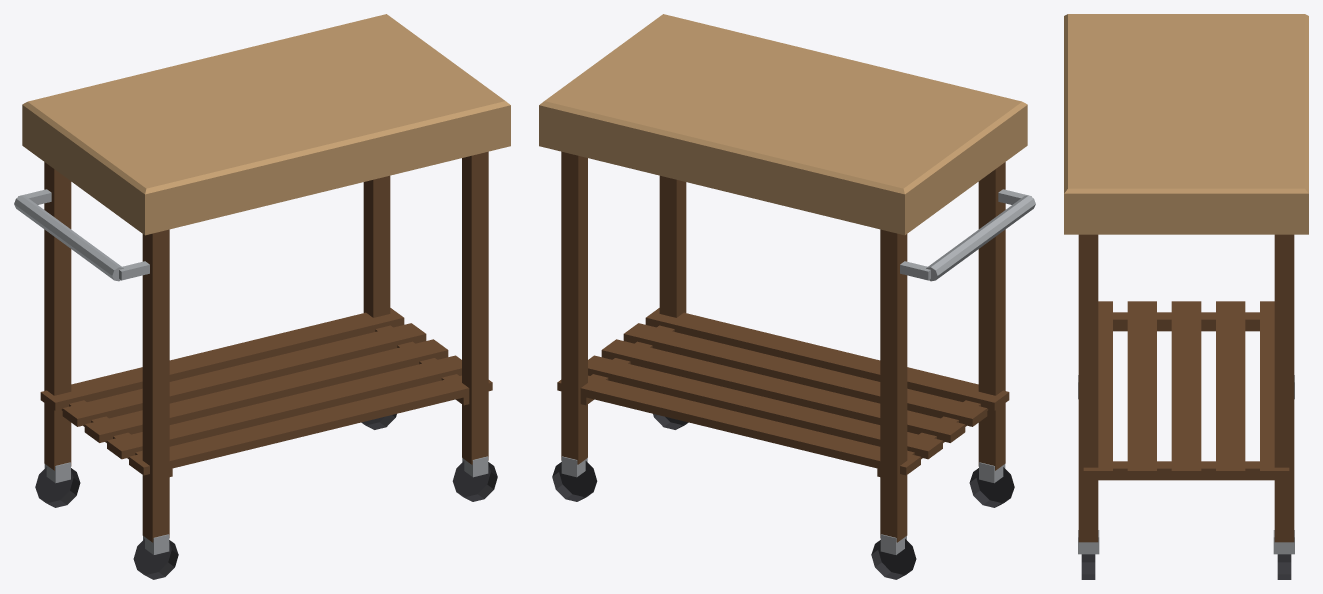
Rendered from FN_Trolley_Butcher.obj.
3 renders of one model, left to right at view 1: azimuth 30°, elevation 25°; view 2: azimuth 150°, elevation 25°; view 3: azimuth 270°, elevation 25°, orthographic.
Parts seen in each view (by area): view 1: FN_Trolley_Butcher; view 2: FN_Trolley_Butcher; view 3: FN_Trolley_Butcher.
Boxes of the visible parts, x1,y1,x2,y2 form: FN_Trolley_Butcher: [14, 14, 510, 579]; FN_Trolley_Butcher: [539, 14, 1035, 579]; FN_Trolley_Butcher: [1064, 14, 1308, 579].
Bounding box in the file's own units: 0.908 × 0.8978 × 0.5.
1 material, 1 textured.
